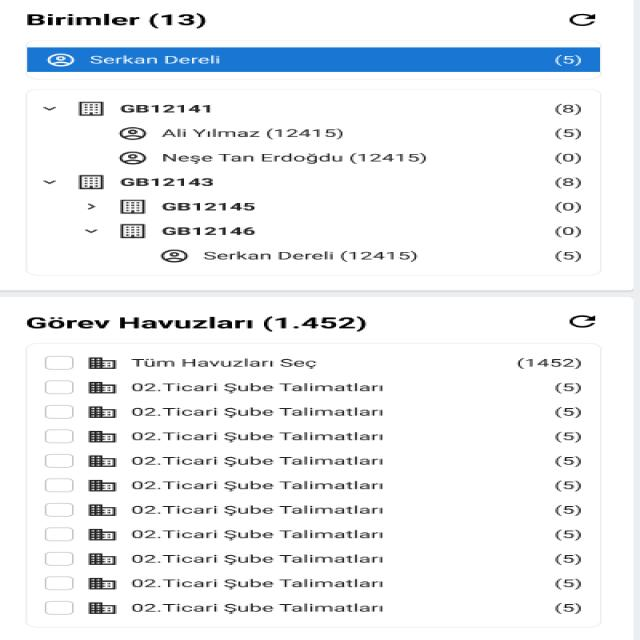QLabel: (19, 314, 376, 332), (121, 528, 387, 540), (122, 504, 388, 516), (123, 430, 388, 442), (124, 577, 388, 589), (122, 552, 386, 564), (122, 455, 386, 467), (124, 406, 387, 418), (26, 11, 211, 28), (125, 381, 387, 393), (127, 602, 388, 614), (122, 480, 386, 491), (124, 357, 322, 369), (84, 54, 226, 65), (514, 357, 583, 370), (554, 54, 582, 68), (554, 103, 582, 116), (555, 479, 581, 493), (555, 577, 581, 591), (555, 201, 581, 214), (555, 250, 581, 263), (555, 176, 581, 189), (555, 553, 581, 566), (555, 152, 581, 165), (555, 431, 581, 444), (555, 504, 581, 517), (555, 226, 581, 238), (555, 529, 581, 541), (554, 128, 580, 140), (555, 456, 581, 468), (555, 603, 581, 615), (555, 382, 581, 394), (555, 407, 581, 419)
VCard: (1, 300, 635, 634), (21, 86, 610, 275), (26, 38, 604, 81)
VCheckbox: (42, 404, 75, 420), (43, 453, 76, 469), (43, 355, 75, 370), (44, 551, 74, 566), (44, 478, 74, 493), (44, 526, 74, 541), (44, 502, 74, 517), (44, 380, 74, 395), (44, 429, 74, 443), (44, 576, 74, 590), (44, 601, 74, 615)
VIcon: (568, 12, 598, 27), (567, 314, 598, 328), (46, 53, 75, 67), (160, 249, 188, 263), (119, 151, 146, 165), (118, 127, 146, 140), (88, 479, 115, 492), (88, 602, 116, 614), (88, 578, 116, 590), (88, 553, 116, 565), (88, 456, 116, 468), (88, 382, 116, 394), (88, 357, 116, 369), (88, 504, 115, 516), (88, 430, 115, 442), (88, 406, 115, 418), (89, 528, 115, 540)
